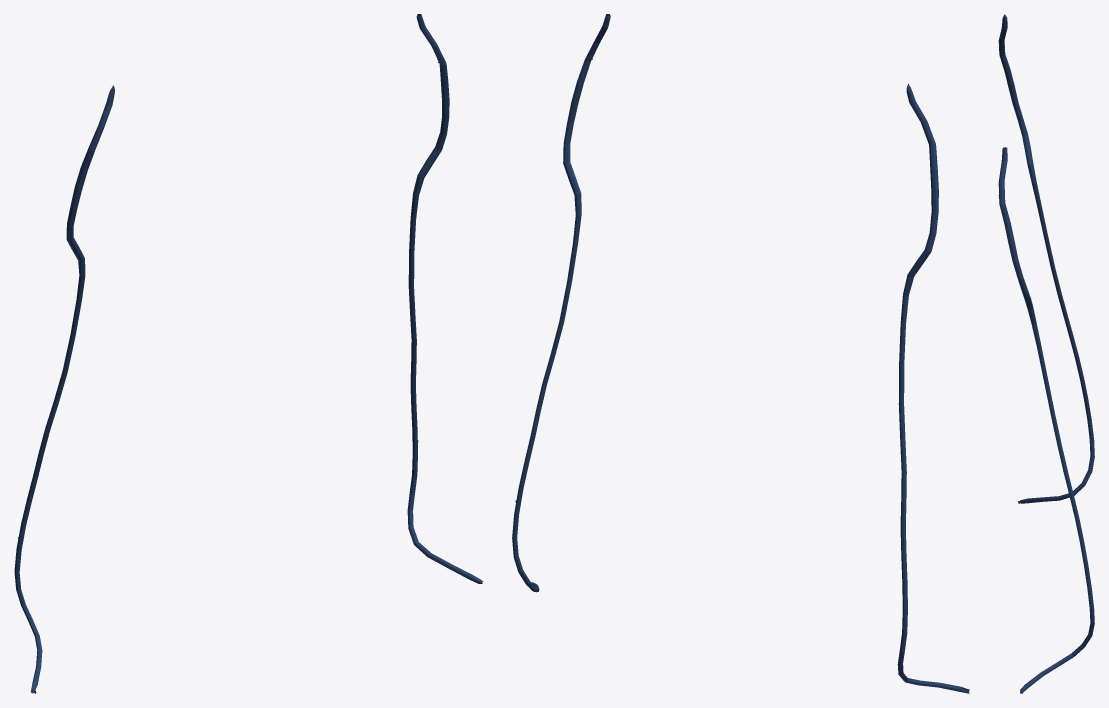
File: Vena Tibial Posterior.FBX
3 views of the same model, side by side, from view 1: azimuth 30°, elevation 25°; view 2: azimuth 150°, elevation 25°; view 3: azimuth 270°, elevation 25° (orthographic). The views are drawn at different scales.
Visible parts, largest first — view 1: CS_Veins; view 2: CS_Veins; view 3: CS_Veins.
Part boxes in pixels (x1=…): CS_Veins: x1=14, y1=14, x2=483, y2=693; CS_Veins: x1=512, y1=14, x2=969, y2=693; CS_Veins: x1=998, y1=14, x2=1094, y2=693.
Bounding box in the file's own units: 1236 × 1565 × 264.
